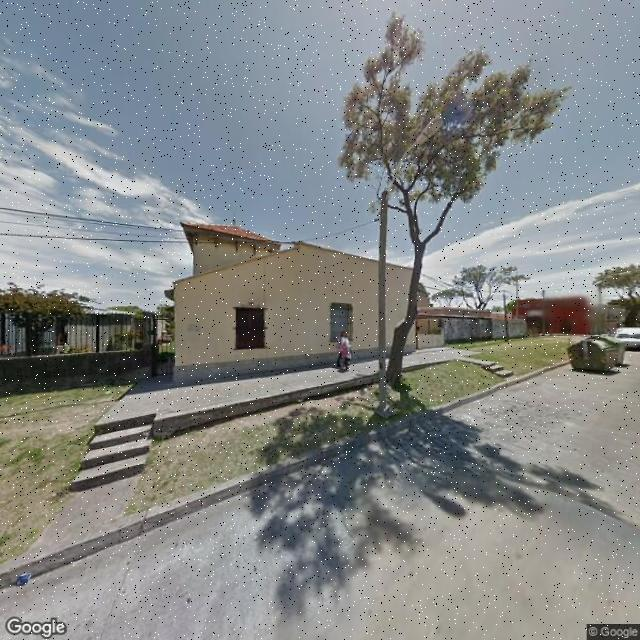garbage container: (563, 325, 634, 380)
